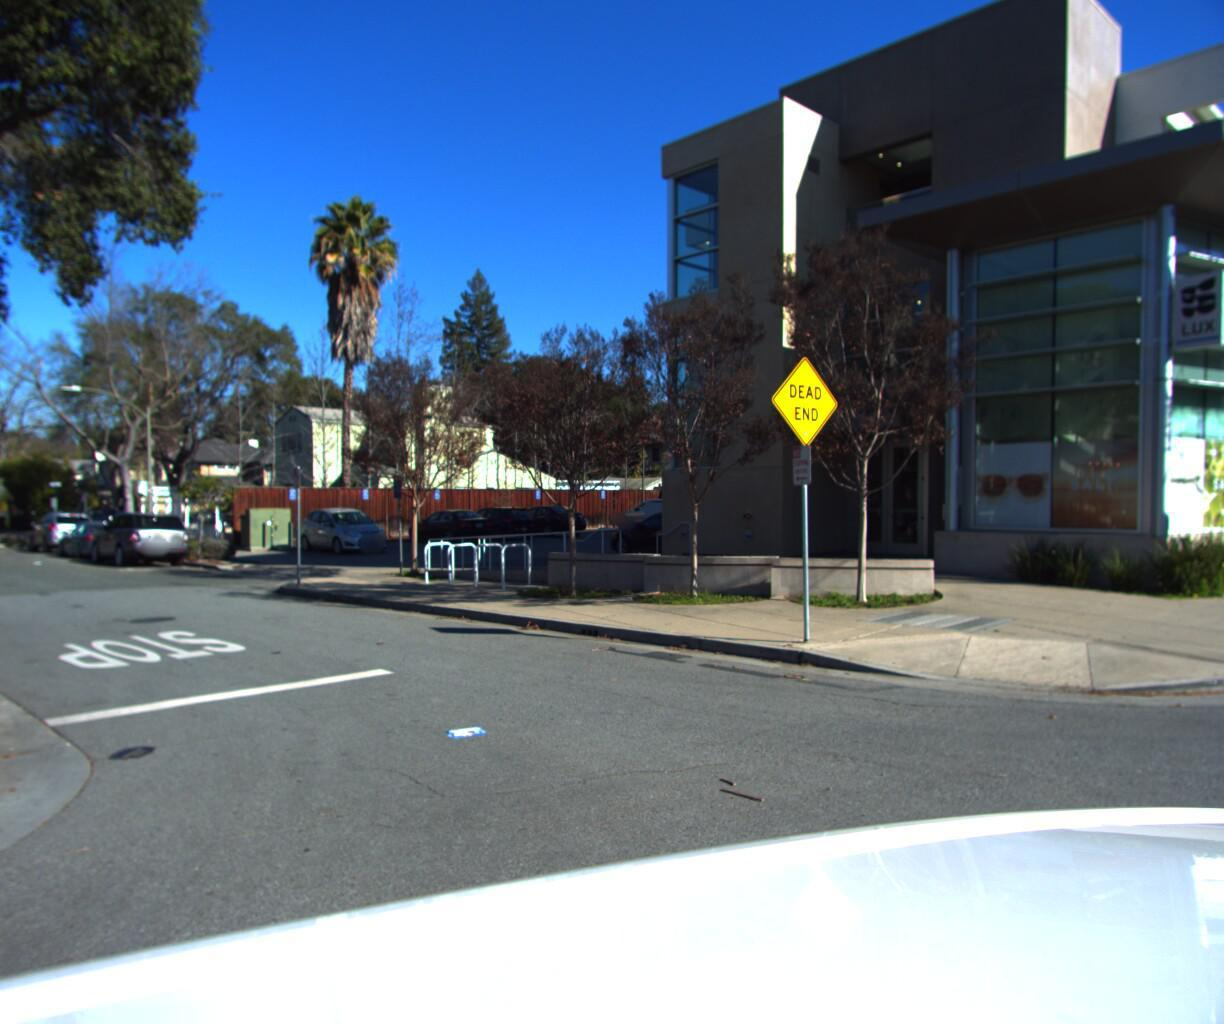car: (84, 508, 192, 577), (292, 508, 394, 557), (52, 515, 138, 563), (397, 506, 498, 548), (23, 511, 100, 554)
